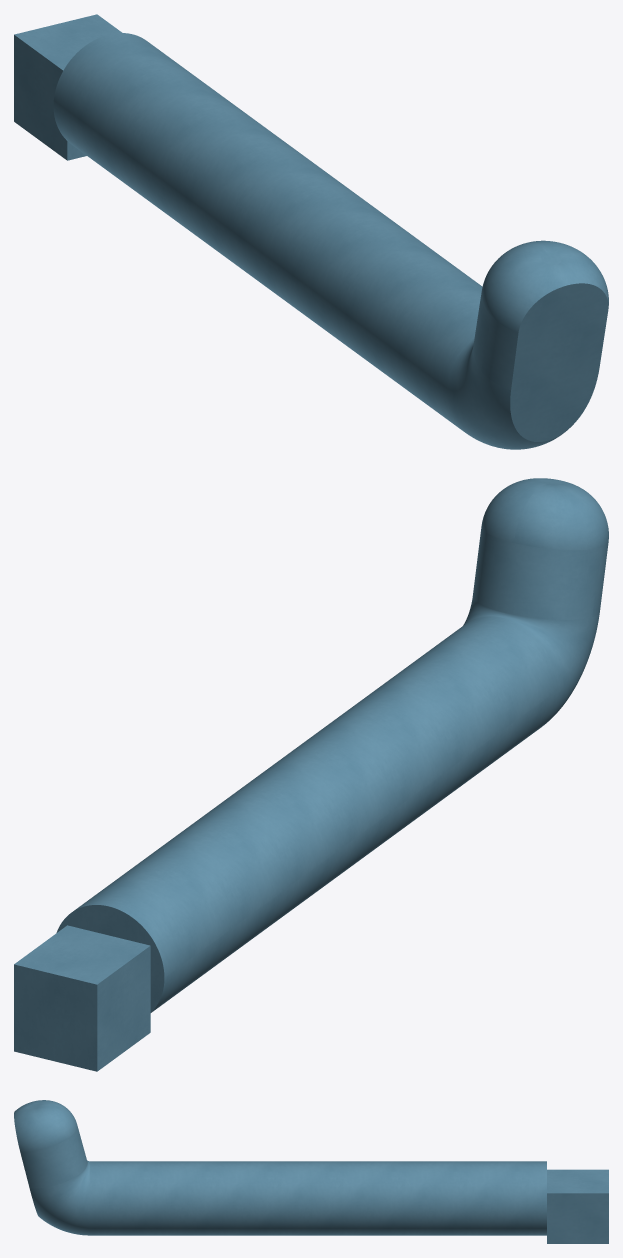
The model's file is piernaIzquierda.obj.
The picture shows the model from 3 angles, top to bottom: view 1: azimuth 30°, elevation 25°; view 2: azimuth 150°, elevation 25°; view 3: azimuth 270°, elevation 25°; orthographic projection. The views are drawn at different scales.
Visible parts, largest first — view 1: polySurface26 polySurface9; view 2: polySurface26 polySurface9; view 3: polySurface26 polySurface9.
Part boxes in pixels (<box>): polySurface26 polySurface9: <box>14,14,608,449</box>; polySurface26 polySurface9: <box>14,478,608,1071</box>; polySurface26 polySurface9: <box>14,1100,608,1243</box>.
Size of the model in its own units: 0.1677 by 0.3174 by 1.34.
Materials: 1 (1 with a texture image).
